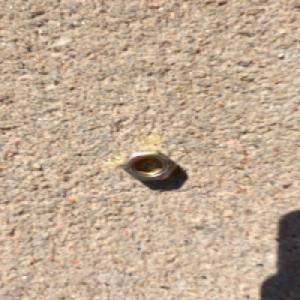Nut: (120, 148, 179, 183)
